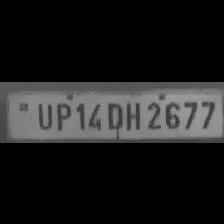1: (72, 100, 86, 130)
2: (142, 99, 162, 131)
4: (82, 99, 102, 131)
6: (161, 98, 181, 130)
7: (196, 98, 216, 130), (181, 98, 197, 130)
D: (103, 99, 123, 131)
H: (123, 99, 143, 131)
P: (53, 100, 73, 132)
U: (33, 98, 53, 130)
